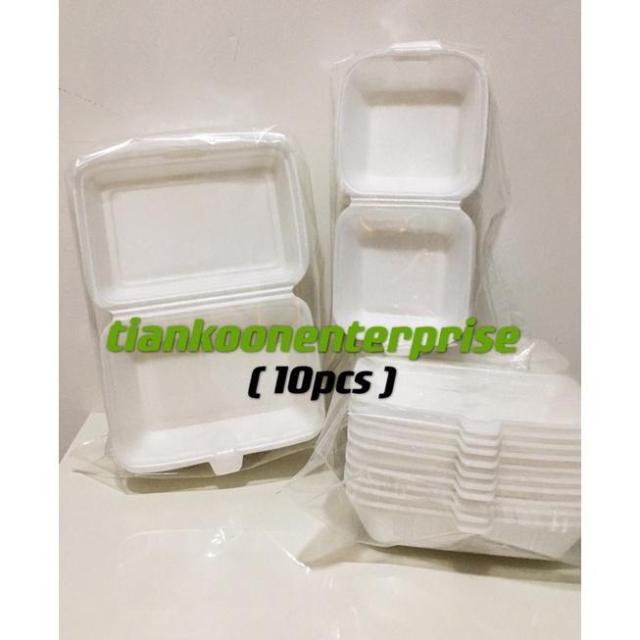styrofoam: (69, 126, 327, 478), (340, 330, 580, 564)
